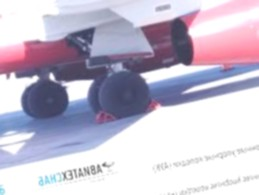chock: (91, 106, 116, 125), (140, 96, 164, 113)
wheel: (94, 66, 154, 123), (16, 75, 75, 124)
